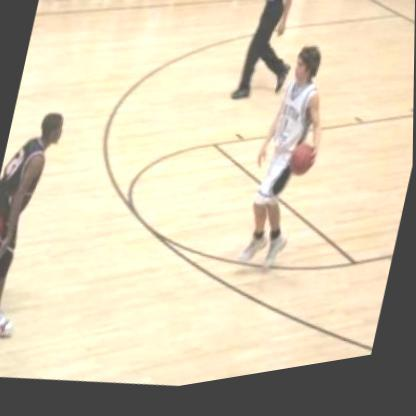basketball: (282, 146, 320, 192)
